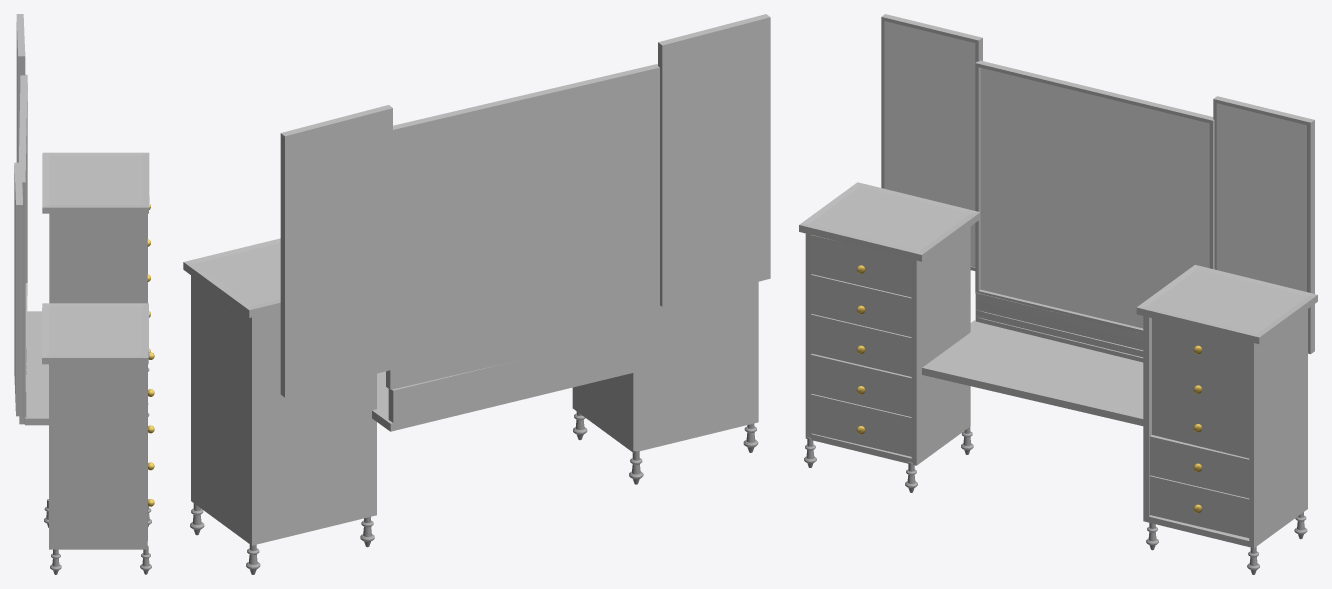
The model's file is Test desk.fbx.
3 views of the same model, side by side, from view 1: azimuth 30°, elevation 25°; view 2: azimuth 150°, elevation 25°; view 3: azimuth 270°, elevation 25° (orthographic). The views are drawn at different scales.
Parts seen in each view (by area): view 1: pasted__pCube793; view 2: pasted__pCube793; view 3: pasted__pCube793.
Boxes of the visible parts, box(x1,y1,x2,y2) form: pasted__pCube793: box(14, 14, 154, 574); pasted__pCube793: box(183, 14, 770, 574); pasted__pCube793: box(799, 14, 1317, 574).
Size of the model in its own units: 430 by 496 by 580.
